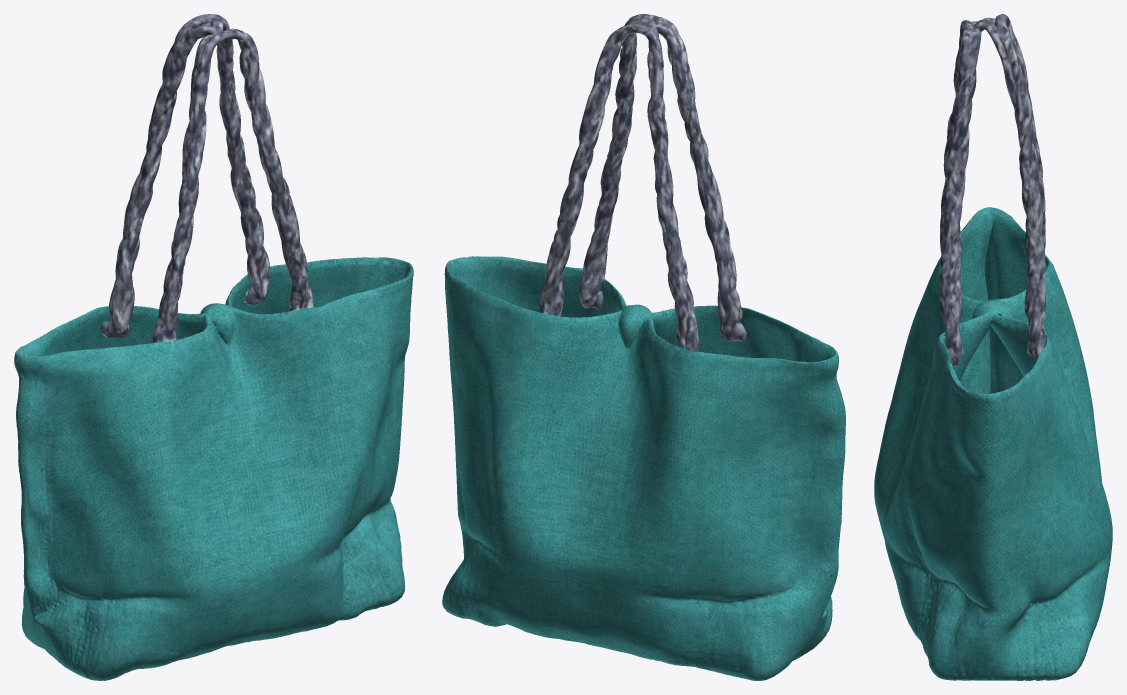
The model's file is tuixach-xanh-la.glb.
3 renders of one model, left to right at view 1: azimuth 30°, elevation 25°; view 2: azimuth 150°, elevation 25°; view 3: azimuth 270°, elevation 25°, orthographic. The views are drawn at different scales.
Parts seen in each view (by area): view 1: geometry_0; view 2: geometry_0; view 3: geometry_0.
Part boxes in pixels (x1,y1,x2,y2): geometry_0: [14, 14, 413, 680]; geometry_0: [442, 14, 845, 680]; geometry_0: [874, 14, 1112, 680].
Bounding box in the file's own units: 0.6814 × 1 × 0.3655.
Materials: 1 (1 with a texture image).
